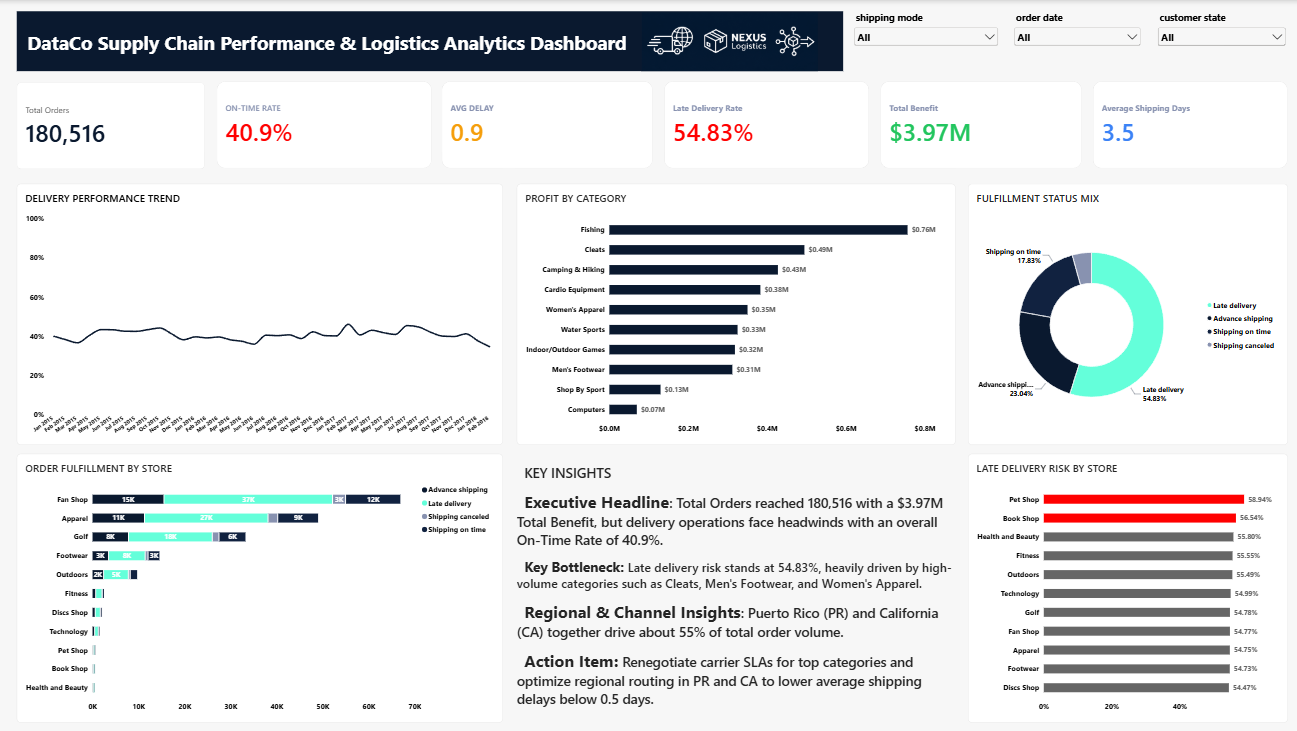

The page's visual inventory and layout, read from the dashboard file:
{"tool":"powerbi","page":{"name":"Supply Chain Analytics Dashboard","canvas":[2560,1440],"ordinal":0},"visuals":[{"type":"cardVisual","fields":{"Data":["public clean_orders.On-Time Delivery %On-Time Delivery %"]},"box":[428.6,159.5,422.1,171.8],"z":0},{"type":"cardVisual","fields":{"Data":["public clean_orders.Late Risk %Late Risk %"]},"box":[1308.8,159.5,402.5,171.8],"z":1000},{"type":"cardVisual","fields":{"Data":["public clean_orders.Avg Shipping DelayAvg Shipping Delay"]},"box":[872.3,159.5,414.7,171.8],"z":2000},{"type":"textbox","box":[36.8,22.1,1622.1,117.8],"z":3000},{"type":"cardVisual","fields":{"Data":["public clean_orders.Total Benefit"]},"box":[1732.9,159.5,395.1,171.8],"z":4000},{"type":"cardVisual","fields":{"Data":["public clean_orders.Average Shipping Days"]},"box":[2149.7,159.5,382.8,171.8],"z":5000},{"type":"lineChart","title":"DELIVERY PERFORMANCE TREND","fields":{"Category":["public dim_date.Month Year"],"Y":["public clean_orders.On-Time Delivery %"]},"box":[36.8,360.7,954.6,512.9],"z":6000},{"type":"clusteredBarChart","title":"PROFIT BY CATEGORY","fields":{"Category":["public clean_orders.category_name"],"Y":["public clean_orders.Total Benefit"]},"box":[1017.2,360.7,861.4,512.9],"z":7000},{"type":"barChart","title":"ORDER FULFILLMENT BY STORE","fields":{"Category":["public dim_shipping_mode.shipping_mode"],"Series":["public clean_orders.delivery_status"],"Y":["public clean_orders.Total Orders"]},"box":[36.8,890.8,954.6,527.6],"z":8000},{"type":"textbox","box":[1017.2,890.8,861.4,527.6],"z":9000},{"type":"slicer","fields":{"Values":["public clean_orders.customer_state"]},"box":[2272.4,22.1,260.1,95.7],"z":10000},{"type":"slicer","fields":{"Values":["public clean_orders.order_date"]},"box":[1991.4,22.1,257.7,95.7],"z":11000},{"type":"slicer","fields":{"Values":["public dim_shipping_mode.shipping_mode"]},"box":[1676.1,22.1,292,95.7],"z":12000},{"type":"image","box":[1197.6,24.5,478.5,115.3],"z":18000},{"type":"clusteredBarChart","title":"LATE DELIVERY RISK BY STORE","fields":{"Category":["public clean_orders.shipping_mode"],"Y":["public clean_orders.Late Delivery Risk %"]},"box":[1904.3,890.8,628.2,527.6],"z":19000},{"type":"donutChart","title":"FULFILLMENT STATUS MIX","fields":{"Category":["public clean_orders.delivery_status"],"Y":["public clean_orders.Total Orders"]},"box":[1904.3,360.7,628.2,512.9],"z":20000},{"type":"cardVisual","fields":{"Data":["public clean_orders.Total Orders Display"]},"box":[37.5,161.6,369.3,170.2],"z":21000}]}

Visuals, with their boxes in screenshot pixels (x1, y1, x2, y2), scaled from the page's 2560x1440 canvas onto the 1297x731 screenshot:
cardVisual - public clean_orders.On-Time Delivery %On-Time Delivery %: {"left": 217, "top": 81, "right": 431, "bottom": 168}
cardVisual - public clean_orders.Late Risk %Late Risk %: {"left": 663, "top": 81, "right": 867, "bottom": 168}
cardVisual - public clean_orders.Avg Shipping DelayAvg Shipping Delay: {"left": 442, "top": 81, "right": 652, "bottom": 168}
textbox: {"left": 19, "top": 11, "right": 840, "bottom": 71}
cardVisual - public clean_orders.Total Benefit: {"left": 878, "top": 81, "right": 1078, "bottom": 168}
cardVisual - public clean_orders.Average Shipping Days: {"left": 1089, "top": 81, "right": 1283, "bottom": 168}
"DELIVERY PERFORMANCE TREND" lineChart: {"left": 19, "top": 183, "right": 502, "bottom": 443}
"PROFIT BY CATEGORY" clusteredBarChart: {"left": 515, "top": 183, "right": 952, "bottom": 443}
"ORDER FULFILLMENT BY STORE" barChart: {"left": 19, "top": 452, "right": 502, "bottom": 720}
textbox: {"left": 515, "top": 452, "right": 952, "bottom": 720}
slicer - public clean_orders.customer_state: {"left": 1151, "top": 11, "right": 1283, "bottom": 60}
slicer - public clean_orders.order_date: {"left": 1009, "top": 11, "right": 1139, "bottom": 60}
slicer - public dim_shipping_mode.shipping_mode: {"left": 849, "top": 11, "right": 997, "bottom": 60}
image: {"left": 607, "top": 12, "right": 849, "bottom": 71}
"LATE DELIVERY RISK BY STORE" clusteredBarChart: {"left": 965, "top": 452, "right": 1283, "bottom": 720}
"FULFILLMENT STATUS MIX" donutChart: {"left": 965, "top": 183, "right": 1283, "bottom": 443}
cardVisual - public clean_orders.Total Orders Display: {"left": 19, "top": 82, "right": 206, "bottom": 168}
